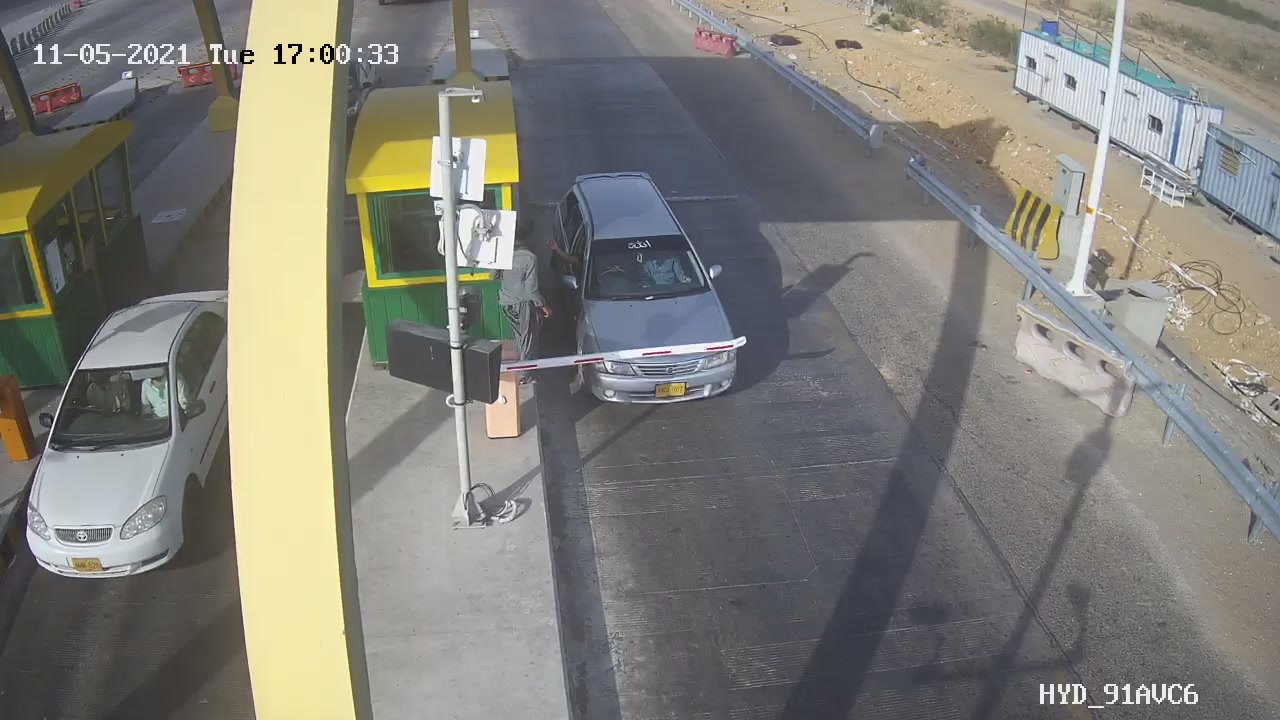F1: (527, 152, 766, 425)
